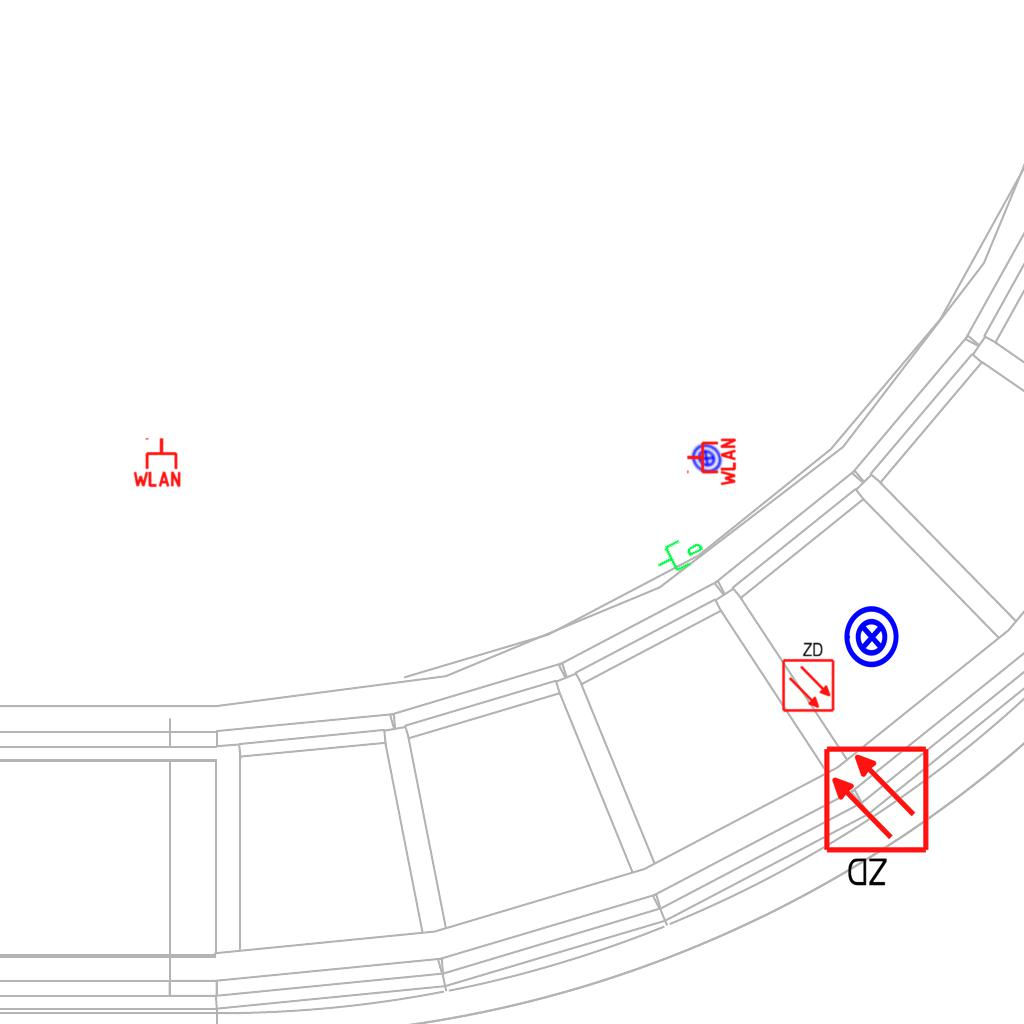Datenanschluss_einfach: (649, 527, 709, 581)
Taster_beleuchtet: (839, 604, 905, 670), (683, 435, 730, 482)
WLAN: (131, 436, 183, 488), (685, 436, 737, 488)
ZD_Melder_in_Zwischendecke_mit_Revisionsoeffnung_mind_40_x_40_cm: (821, 744, 935, 893), (779, 639, 836, 713)
